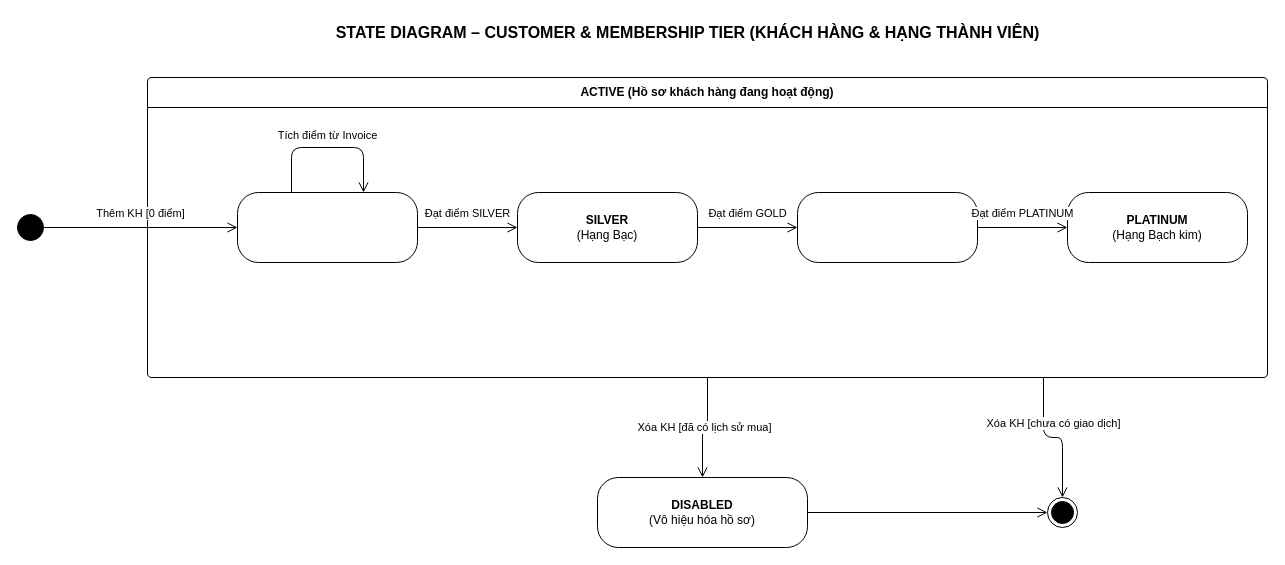
Image size: 1285x565. Some labels were removed from this diagram. The centre of each missing label's shape, as x and y in pixels:
GOLD (Hạng Vàng): the point at 887,227
STANDARD (Hạng Chuẩn): the point at 327,227
